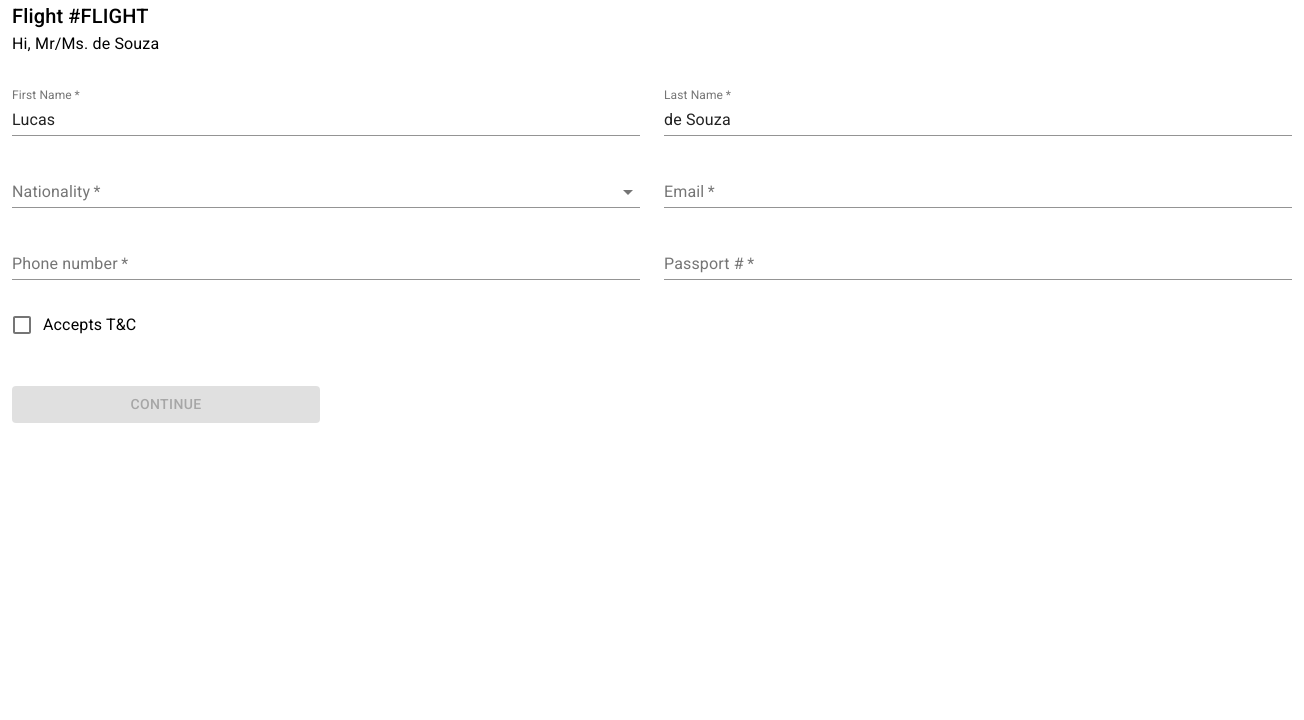
Test: User Info form › should display Belgium extra fields
Select "Belgium" in the dropdown with test id "nationality": (326, 192) [12, 176, 640, 208]
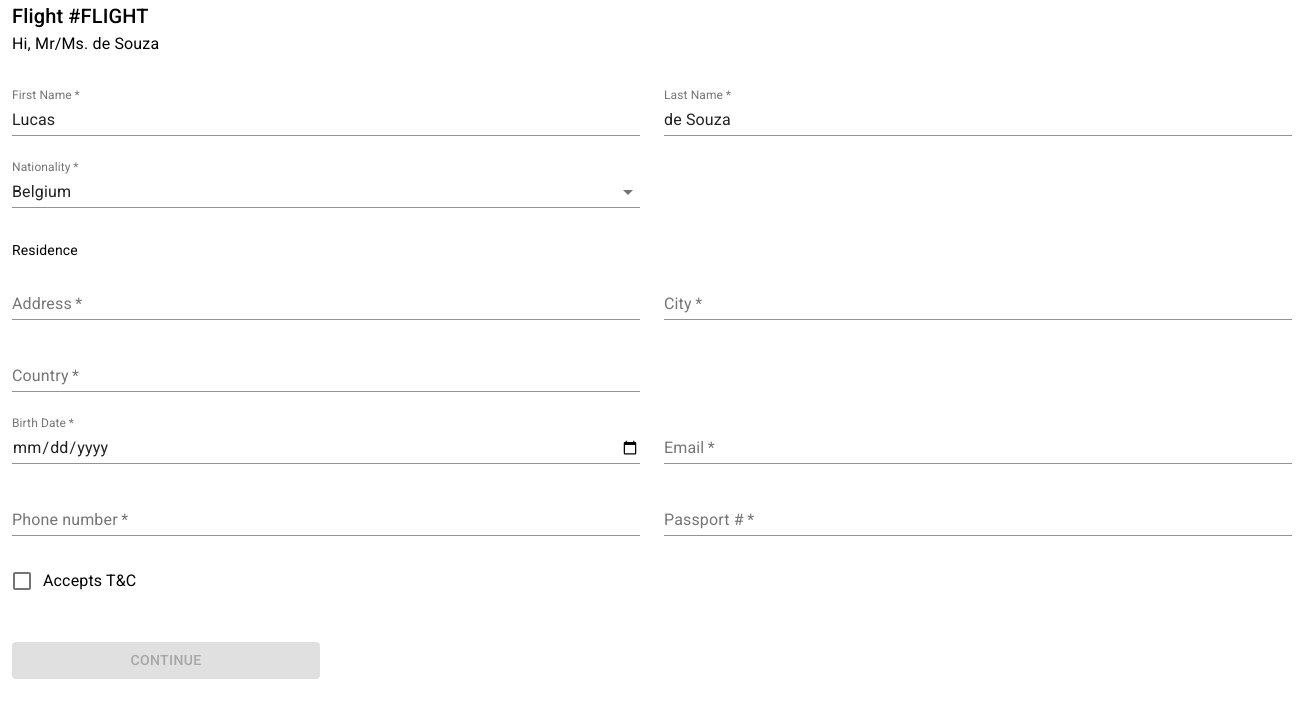
Expected: the date field with test id "birthDate" is shown, [12, 432, 640, 464]
Expected: the field with test id "residenceCountry" is shown, [12, 360, 640, 392]
Expected: the field with test id "residenceCity" is shown, [664, 288, 1292, 320]
